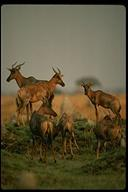antelope: (14, 66, 67, 127), (79, 78, 124, 123), (29, 95, 58, 163), (92, 109, 123, 159), (58, 110, 80, 160), (6, 60, 31, 90)
grass: (37, 166, 124, 189)
sky: (3, 7, 124, 59)
